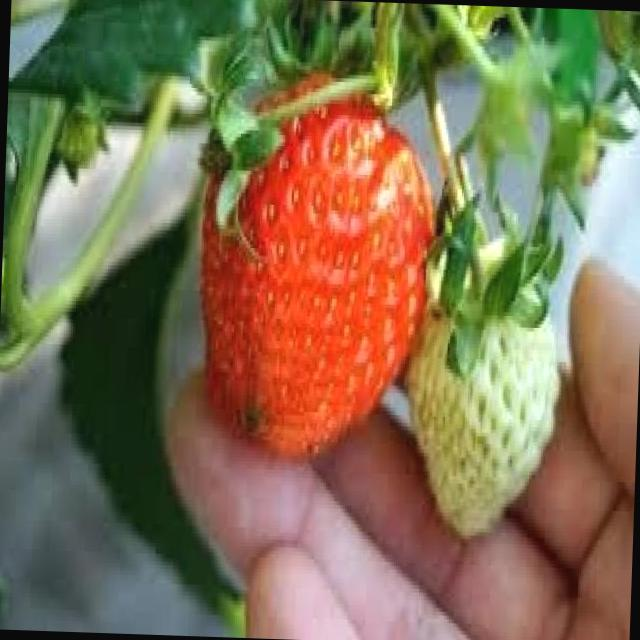Strawberry: (192, 85, 440, 468), (399, 280, 563, 540)
